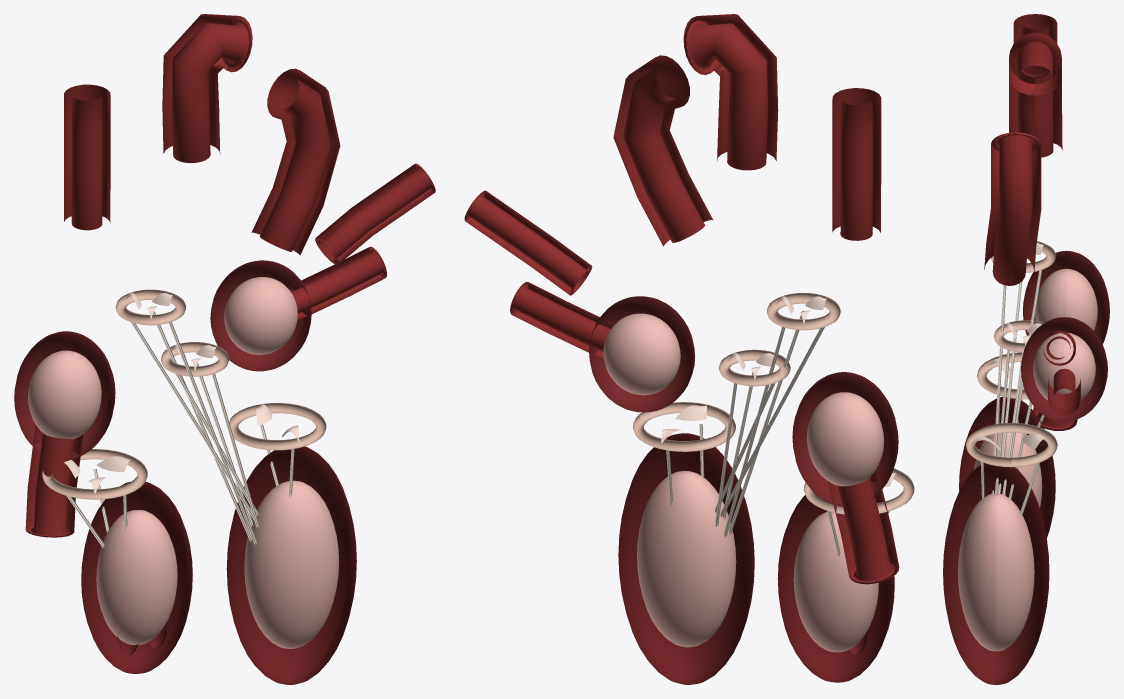
Rendered from heart_segmented.glb.
3 renders of one model, left to right at view 1: azimuth 30°, elevation 25°; view 2: azimuth 150°, elevation 25°; view 3: azimuth 270°, elevation 25°, orthographic. The views are drawn at different scales.
Visible parts, largest first — view 1: WallLV, WallRV, PulmonaryTrunk, WallRA, Aorta, WallLA, SVC, PulmonaryVeinL, IVC, PulmonaryVeinR, AnnulusMitral, AnnulusTricuspid (+6 smaller); view 2: WallLV, WallRV, PulmonaryTrunk, WallRA, Aorta, WallLA, SVC, PulmonaryVeinL, IVC, PulmonaryVeinR, AnnulusMitral, AnnulusAortic (+5 smaller); view 3: WallLV, PulmonaryTrunk, WallLA, Aorta, WallRA, WallRV, AnnulusMitral, PulmonaryVeinR, SVC, AnnulusTricuspid, AnnulusPulmonary, ChordaeAortic2 (+7 smaller).
Part boxes in pixels (x1,y1,x2,y2): WallLV: [226, 446, 356, 684]; WallRV: [81, 482, 192, 673]; PulmonaryTrunk: [251, 68, 340, 255]; WallRA: [14, 331, 115, 458]; Aorta: [162, 14, 252, 163]; WallLA: [210, 260, 311, 371]; SVC: [64, 84, 110, 230]; PulmonaryVeinL: [315, 163, 435, 264]; IVC: [25, 425, 83, 537]; PulmonaryVeinR: [287, 246, 386, 320]; AnnulusMitral: [229, 403, 326, 450]; AnnulusTricuspid: [42, 449, 147, 499]; WallLV: [618, 433, 754, 684]; WallRV: [777, 495, 894, 682]; PulmonaryTrunk: [613, 55, 713, 246]; WallRA: [792, 372, 898, 506]; Aorta: [683, 14, 778, 170]; WallLA: [589, 296, 694, 412]; SVC: [832, 88, 881, 240]; PulmonaryVeinL: [464, 190, 592, 295]; IVC: [828, 468, 899, 584]; PulmonaryVeinR: [510, 281, 614, 358]; AnnulusMitral: [633, 402, 735, 451]; AnnulusAortic: [767, 293, 840, 330]; WallLV: [943, 463, 1049, 684]; PulmonaryTrunk: [984, 132, 1041, 285]; WallLA: [1021, 317, 1107, 421]; Aorta: [1009, 32, 1062, 157]; WallRA: [1023, 250, 1109, 343]; WallRV: [959, 397, 1055, 537]; AnnulusMitral: [966, 423, 1057, 467]; PulmonaryVeinR: [1048, 368, 1080, 415]; SVC: [1013, 14, 1057, 43]; AnnulusTricuspid: [977, 352, 1028, 399]; AnnulusPulmonary: [994, 320, 1043, 352]; ChordaeAortic2: [998, 281, 1022, 493].
Size of the model in its own units: 0.0906 by 0.1416 by 0.0345.
9 materials, 3 textured.
